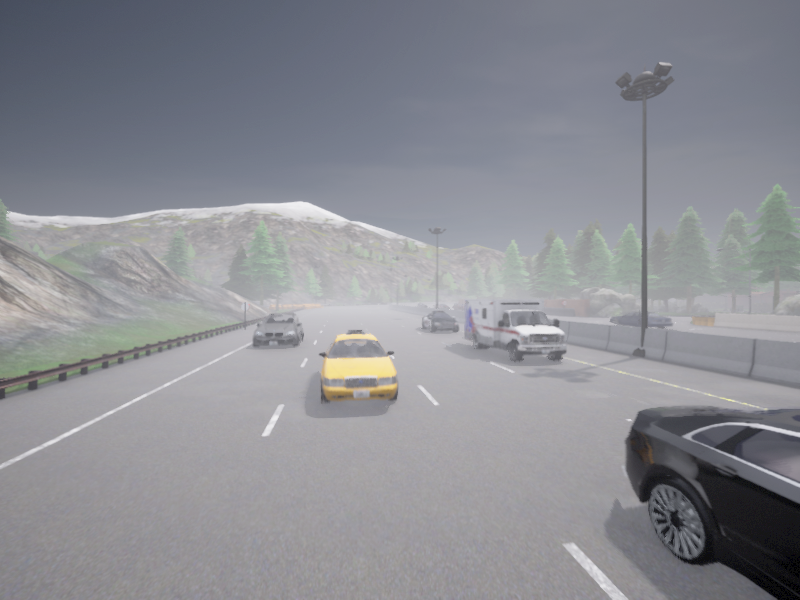vehicle: (621, 405, 799, 599), (463, 299, 566, 362), (318, 329, 397, 403), (252, 313, 303, 347), (609, 311, 672, 328), (421, 311, 458, 332), (452, 304, 463, 310), (435, 304, 448, 309), (415, 303, 426, 307), (432, 303, 438, 307)
